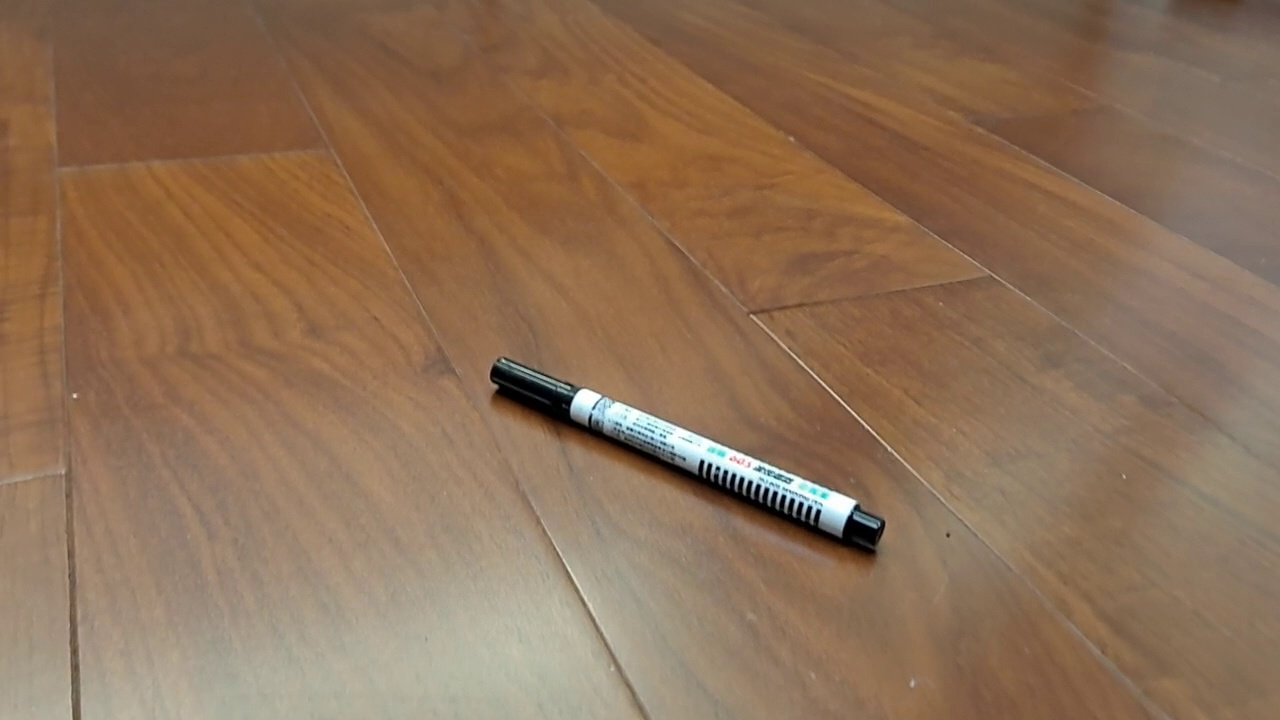pen: (489, 356, 886, 547)
